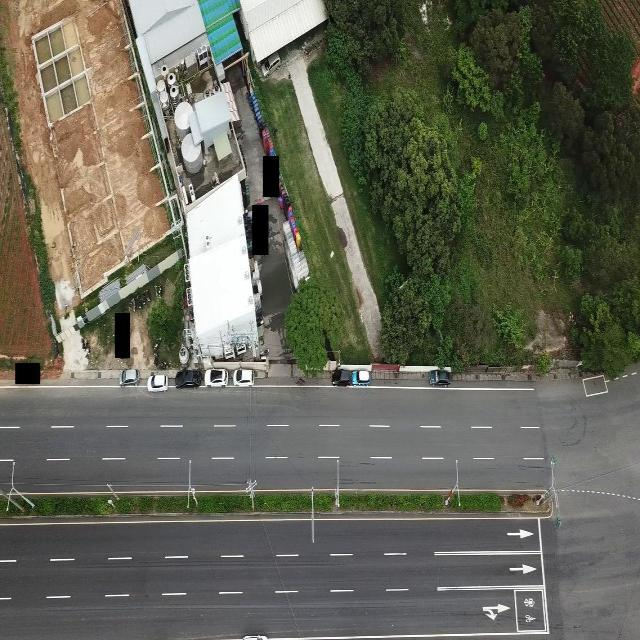bike: (154, 337, 162, 351), (159, 359, 170, 369), (153, 350, 158, 369), (80, 337, 86, 351), (131, 297, 136, 313), (158, 283, 162, 299), (142, 290, 146, 306), (137, 295, 141, 310), (146, 289, 150, 303)
car: (176, 366, 203, 387), (204, 366, 228, 387), (429, 366, 454, 386), (120, 365, 142, 386), (148, 372, 170, 393), (349, 366, 371, 386), (233, 365, 254, 384), (332, 366, 350, 385), (242, 633, 269, 640)
